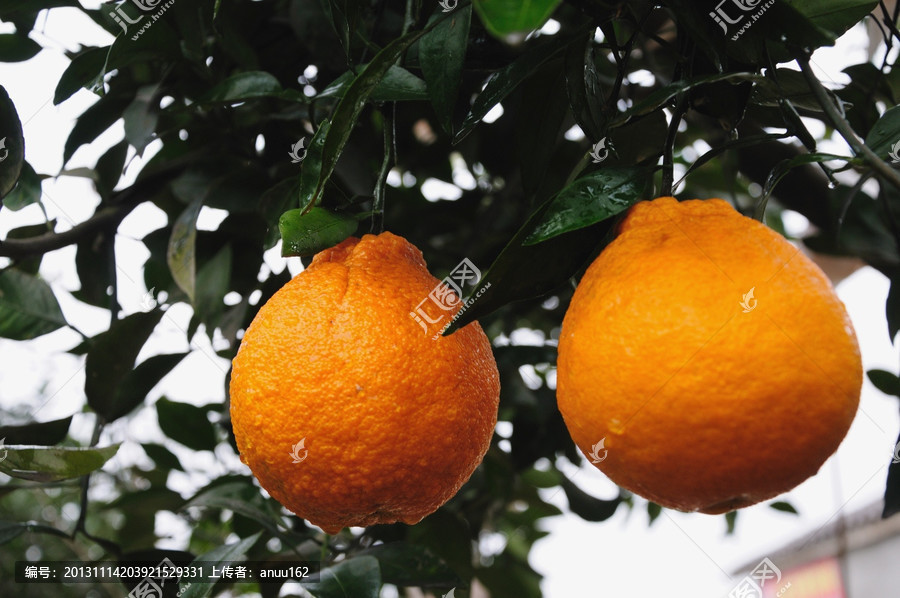orange: (557, 194, 862, 516), (229, 231, 503, 526)
